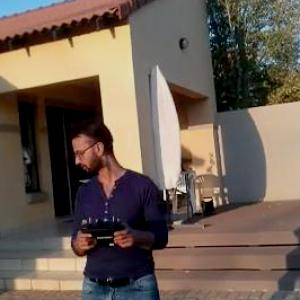follow: (64, 108, 176, 299)
